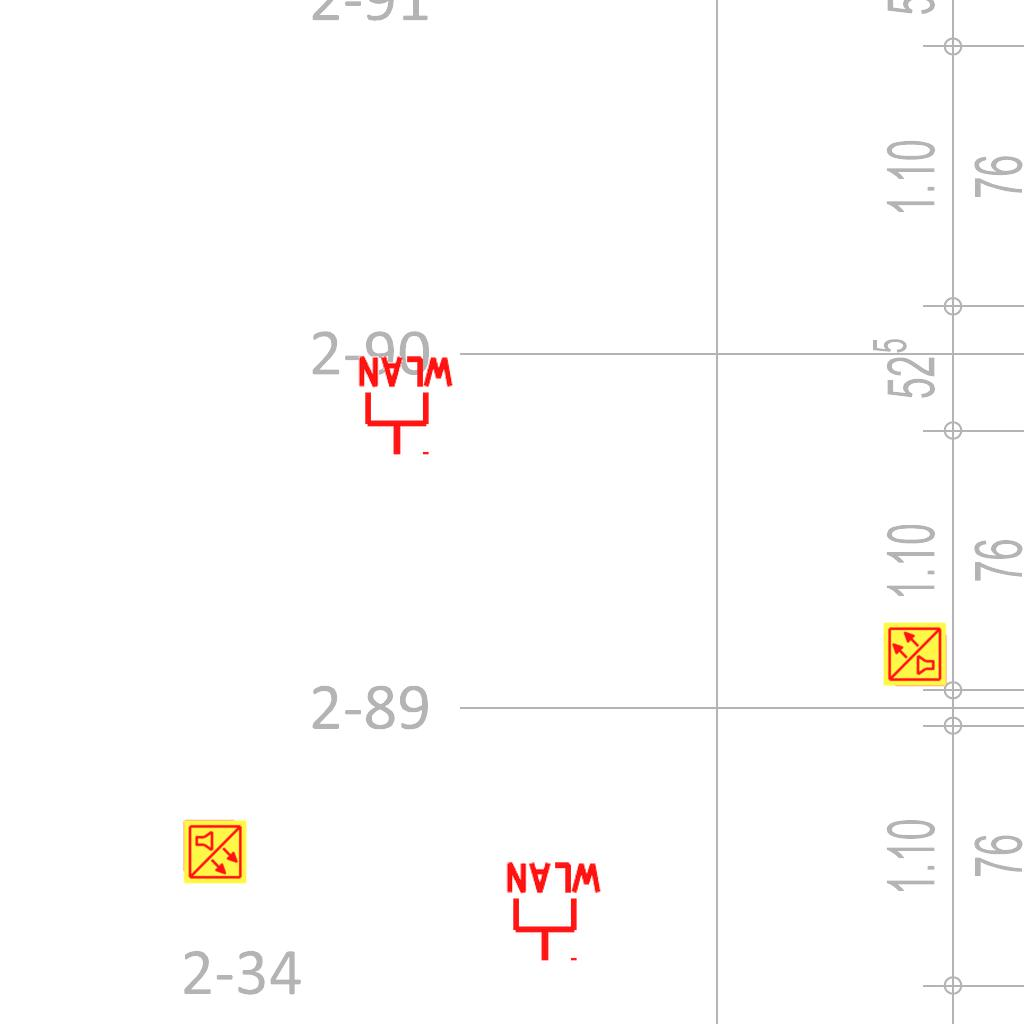OKW_Multisensormelder_(Kombination_optischer_Rauch-Kahlenmonoxid_Waerme-Melder): (182, 819, 248, 885), (882, 621, 948, 687)
WLAN: (502, 860, 606, 965), (354, 354, 458, 459)
